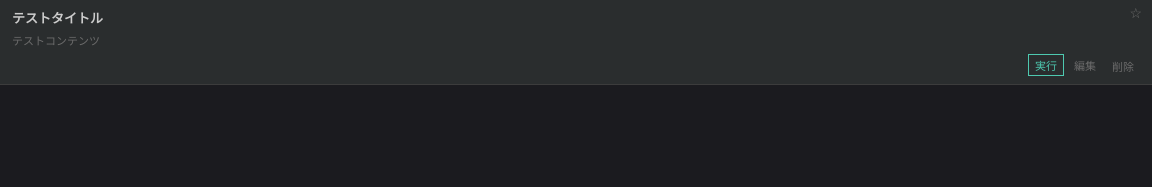
Test case: PromptItem › インライン編集 › 編集ボタンクリックでタイトル入力とコンテンツ入力が表示される
Click the button with aria-label "プロンプトを編集": (1085, 65) [1068,54,1102,76]
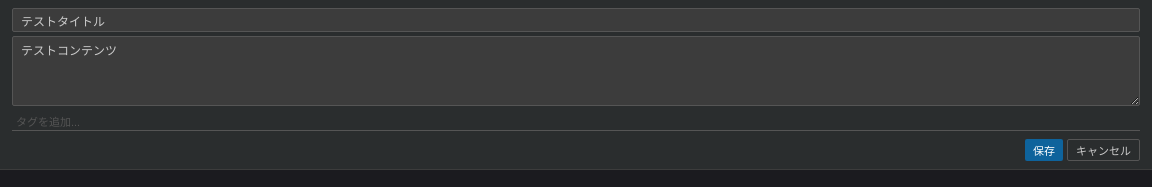
expect the field named "タイトルを編集" is shown: met, box [12,8,1140,32]
expect the text box named "内容を編集" is shown: met, box [12,36,1140,106]
